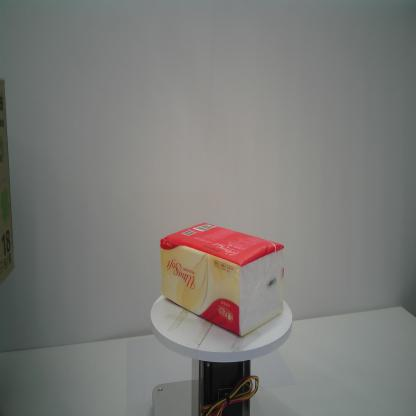Tissue: (159, 221, 285, 337)
